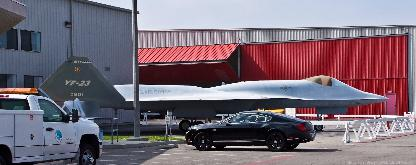US2: (37, 55, 389, 130)
